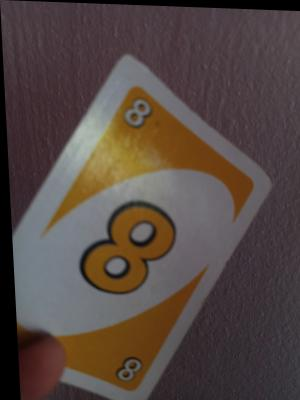num_8: (58, 192, 183, 304), (115, 95, 185, 187)
